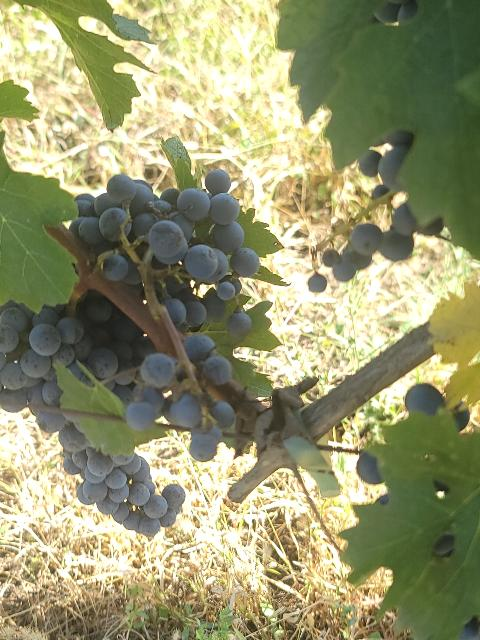grapes: (0, 291, 185, 536), (70, 170, 260, 325), (165, 334, 236, 461)
